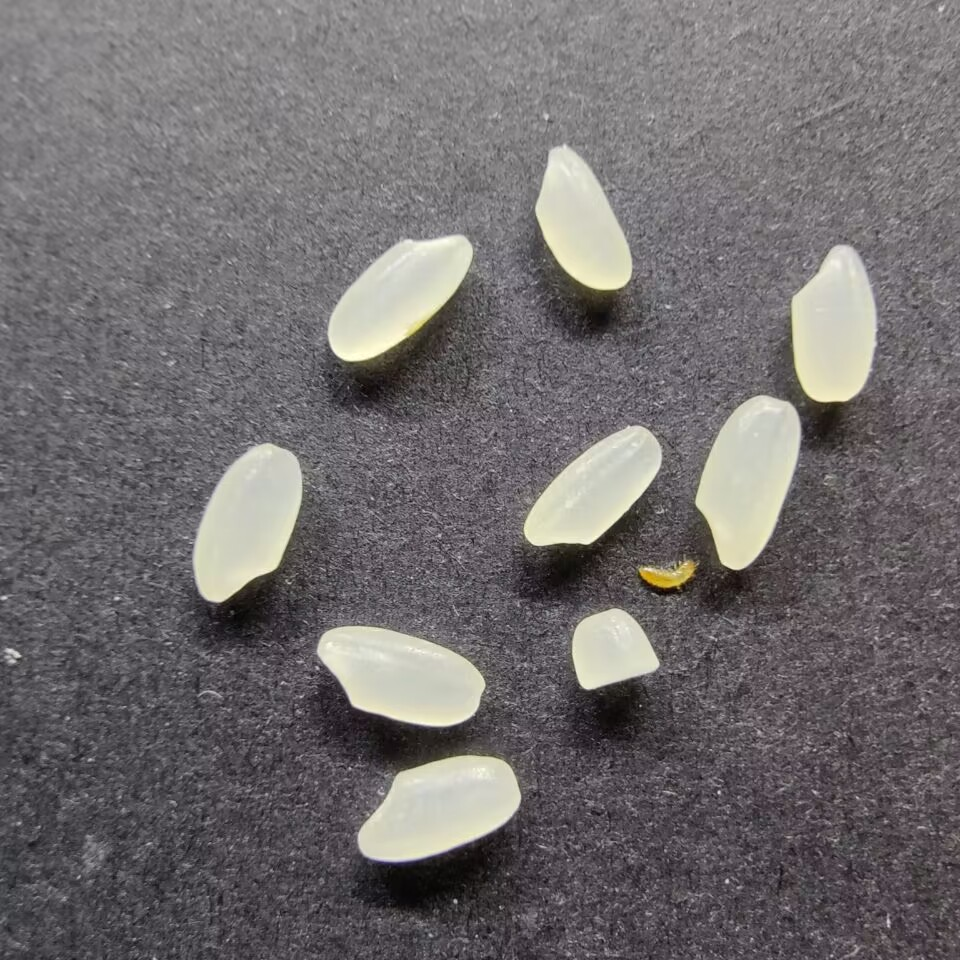broken: (569, 607, 662, 691)
others: (637, 553, 704, 595)
rice: (693, 393, 803, 571), (325, 231, 472, 363), (190, 442, 304, 604), (354, 754, 521, 863), (314, 624, 485, 727), (521, 426, 664, 548), (532, 144, 633, 292), (788, 242, 877, 402)
